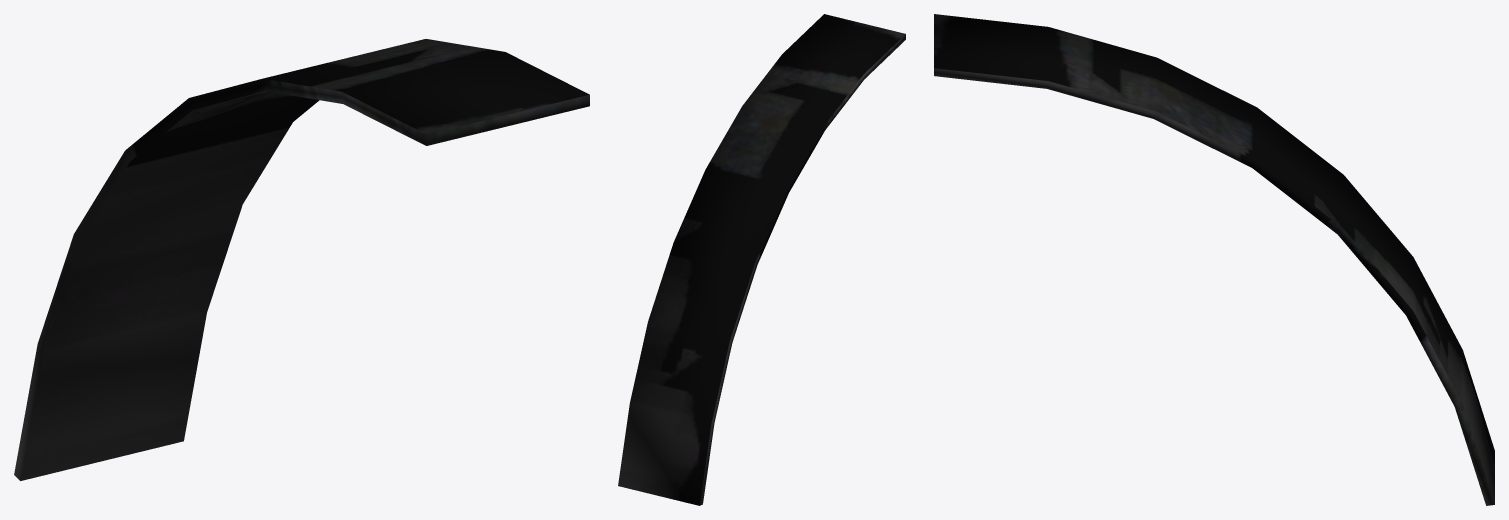
File: spacejunk4.fbx
3 views of the same model, side by side, from view 1: azimuth 30°, elevation 25°; view 2: azimuth 150°, elevation 25°; view 3: azimuth 270°, elevation 25° (orthographic). The views are drawn at different scales.
Parts seen in each view (by area): view 1: PipelineFBX; view 2: PipelineFBX; view 3: PipelineFBX.
Part boxes in pixels (x1,y1,x2,y2): PipelineFBX: [14, 39, 589, 480]; PipelineFBX: [618, 14, 905, 505]; PipelineFBX: [934, 14, 1494, 505].
Size of the model in its own units: 10.62 by 39.98 by 46.42.
1 material, 1 textured.
